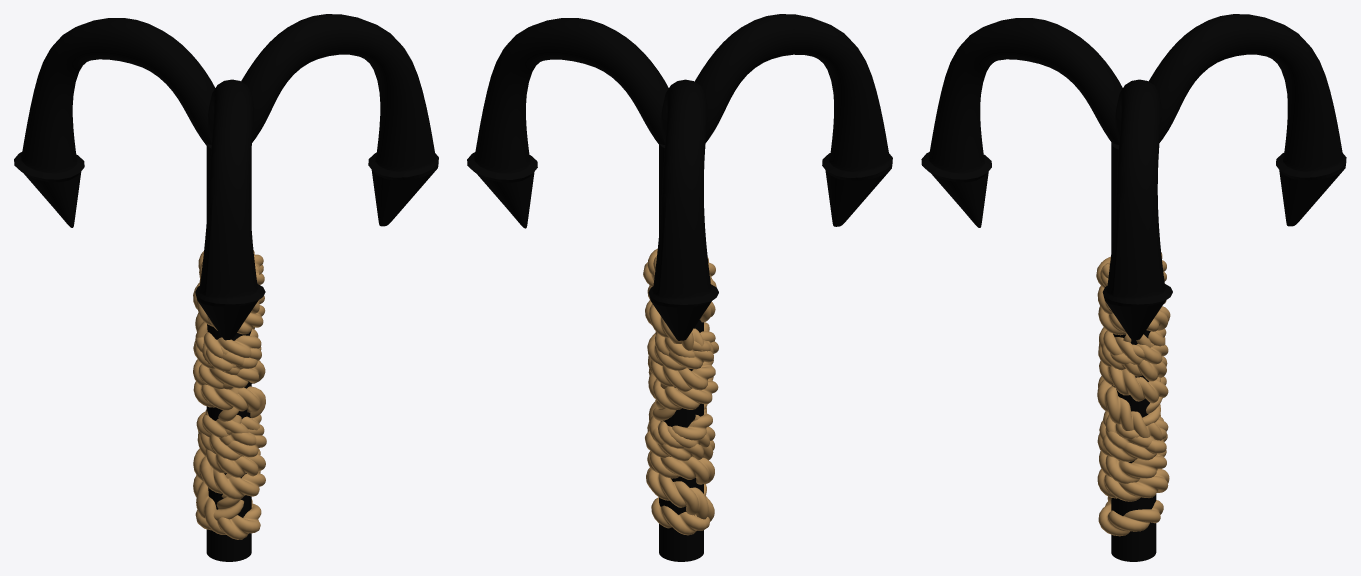
File: grapple.fbx
3 renders of one model, left to right at view 1: azimuth 30°, elevation 25°; view 2: azimuth 150°, elevation 25°; view 3: azimuth 270°, elevation 25°, orthographic.
Parts seen in each view (by area): view 1: Cube.002, Circle.002, Circle.003, Circle.004; view 2: Cube.002, Circle.003, Circle.002, Circle.004; view 3: Cube.002, Circle.003, Circle.002, Circle.004.
Boxes of the visible parts, left/top/right/bottom form: Cube.002: left=14, top=14, right=438, bottom=561; Circle.002: left=193, top=409, right=266, bottom=539; Circle.003: left=193, top=327, right=265, bottom=437; Circle.004: left=193, top=250, right=265, bottom=498; Cube.002: left=467, top=14, right=892, bottom=561; Circle.003: left=647, top=322, right=718, bottom=448; Circle.002: left=645, top=415, right=715, bottom=535; Circle.004: left=643, top=249, right=716, bottom=409; Cube.002: left=921, top=14, right=1346, bottom=561; Circle.003: left=1097, top=327, right=1168, bottom=440; Circle.002: left=1097, top=417, right=1169, bottom=536; Circle.004: left=1096, top=252, right=1170, bottom=366.
Bounding box in the file's own units: 684 × 1014 × 765.
